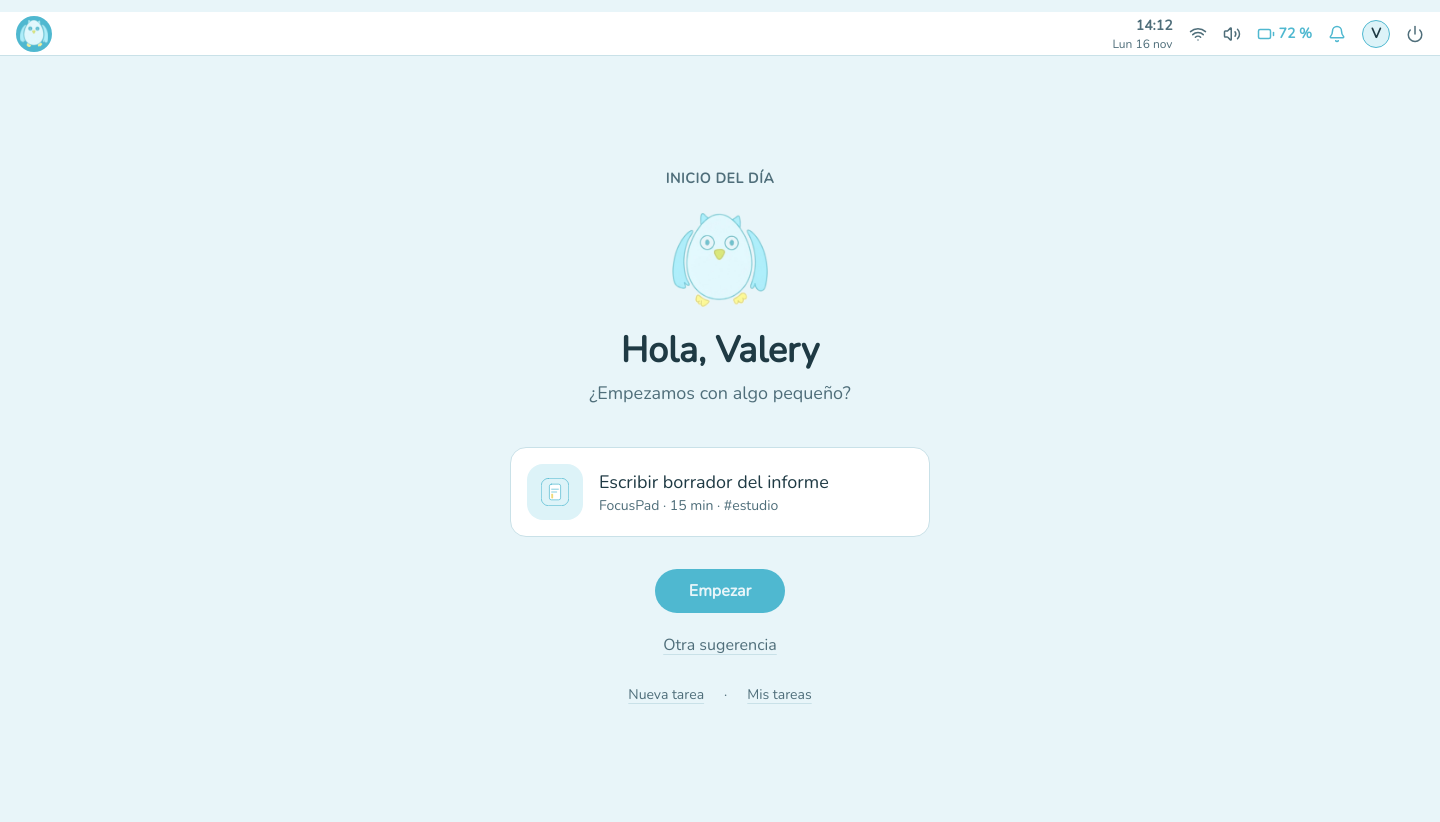
Test case: PantallaBienvenida › cambia de sugerencia al hacer clic en Otra sugerencia
Expected: the heading "Escribir borrador del informe" is shown, [599, 468, 829, 496]
Click the button "Otra sugerencia": click(720, 645) [655, 629, 785, 661]
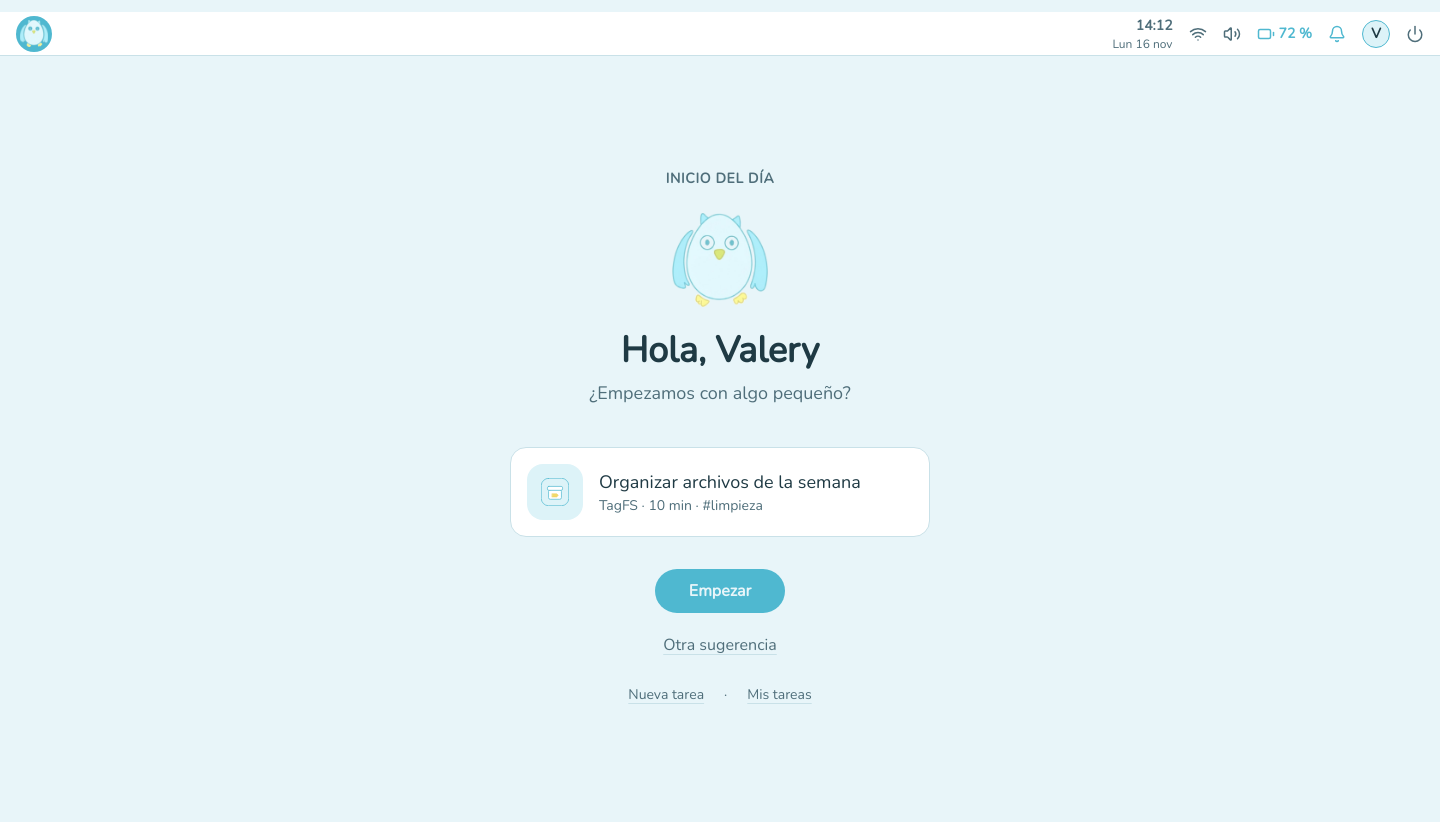
Result: the heading "Organizar archivos de la semana" is shown at [599, 468, 861, 496]
